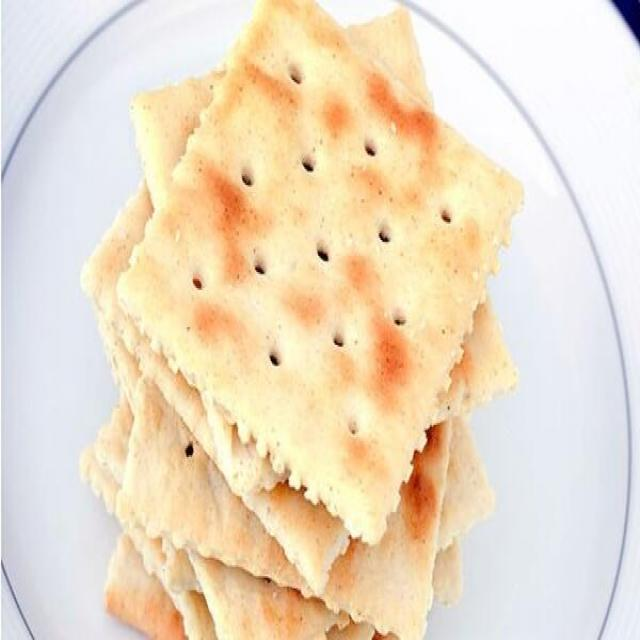Cracker: (137, 2, 529, 530)
